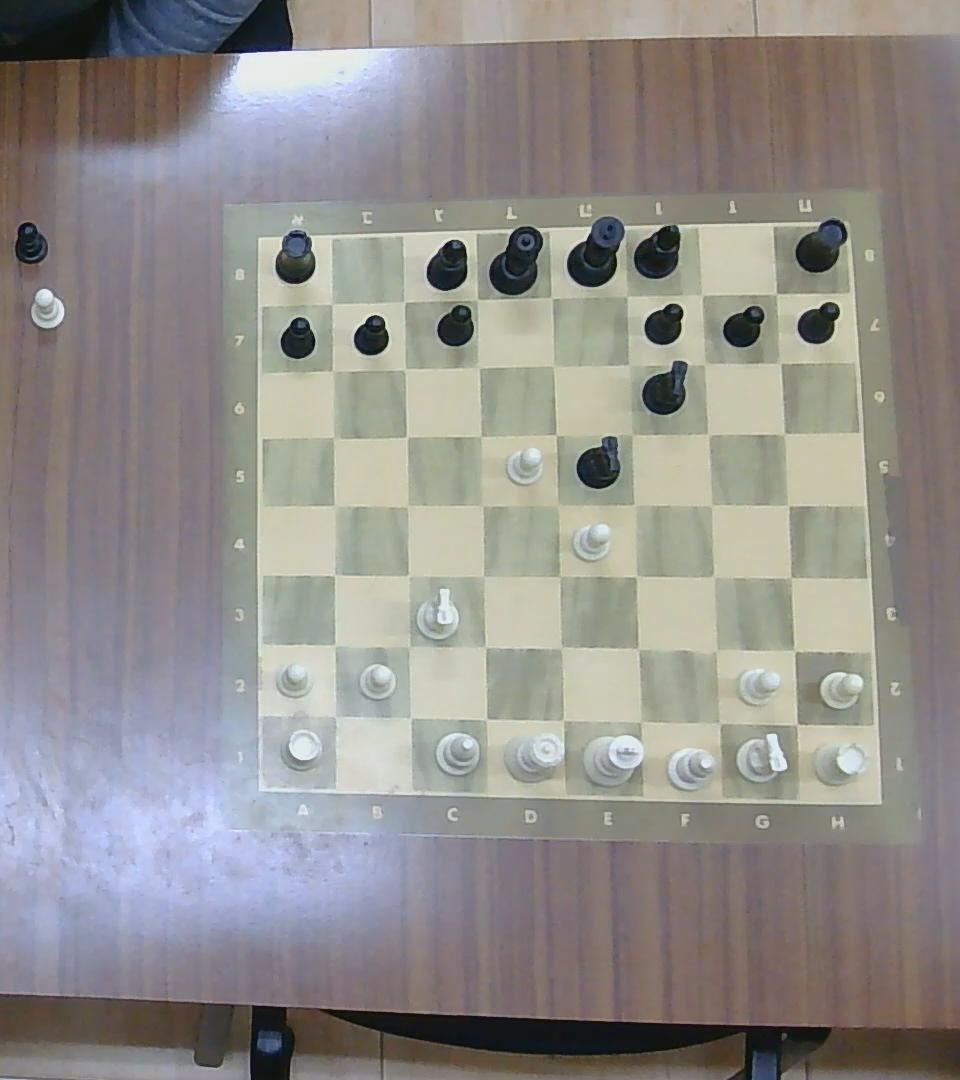xcorner: (701, 705, 735, 738), (621, 631, 654, 664), (545, 630, 577, 662), (624, 704, 656, 736), (468, 630, 500, 662), (546, 704, 578, 736), (780, 706, 812, 738), (470, 702, 501, 734), (699, 634, 731, 665), (777, 634, 809, 665), (393, 701, 424, 732), (775, 561, 806, 592), (698, 561, 728, 592), (319, 700, 350, 730), (544, 561, 574, 592), (468, 560, 498, 590), (621, 560, 651, 590), (393, 631, 423, 661), (319, 629, 349, 659), (620, 489, 650, 519), (616, 419, 645, 448), (393, 561, 423, 589), (543, 490, 573, 518), (467, 490, 496, 518), (320, 559, 348, 588), (773, 490, 802, 518), (697, 490, 726, 518), (463, 284, 491, 313), (393, 490, 421, 518), (320, 491, 349, 518), (693, 418, 722, 445), (537, 283, 566, 310), (318, 421, 345, 448), (543, 420, 570, 447), (612, 282, 640, 308), (771, 420, 798, 446), (317, 291, 345, 316), (393, 422, 419, 448), (318, 356, 344, 382), (467, 422, 493, 448), (540, 351, 566, 377), (616, 351, 642, 377), (767, 348, 792, 373), (763, 281, 789, 305), (691, 350, 716, 374), (466, 353, 490, 378), (391, 356, 415, 379), (690, 283, 714, 306), (391, 290, 415, 313)
